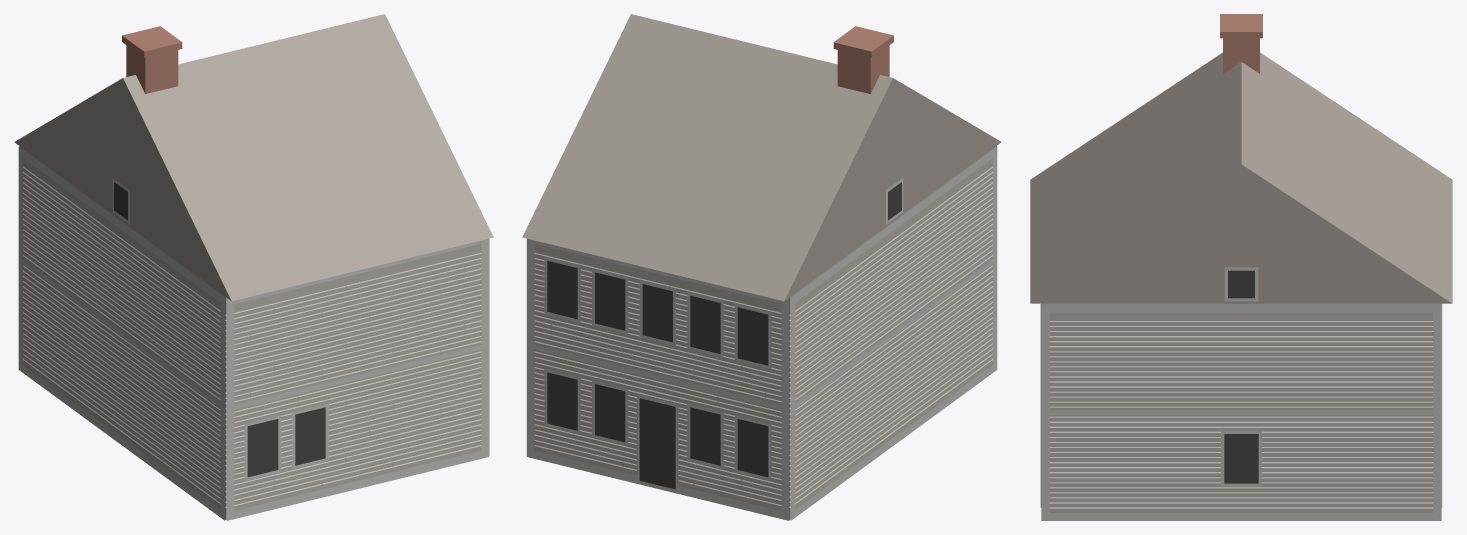
File: recon_1835_west_019__inferred_1835.glb
3 renders of one model, left to right at view 1: azimuth 30°, elevation 25°; view 2: azimuth 150°, elevation 25°; view 3: azimuth 270°, elevation 25°, orthographic. The views are drawn at different scales.
Visible parts, largest first — view 1: recon_1835_west_019__inferred_1835; view 2: recon_1835_west_019__inferred_1835; view 3: recon_1835_west_019__inferred_1835.
Part boxes in pixels (box(x1,y1,x2,y2)): recon_1835_west_019__inferred_1835: box(14, 14, 493, 520); recon_1835_west_019__inferred_1835: box(522, 14, 1001, 520); recon_1835_west_019__inferred_1835: box(1030, 14, 1452, 520).
Bounding box in the file's own units: 6.8 × 9.75 × 9.64.
